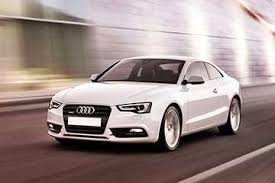car: (46, 52, 243, 152)
